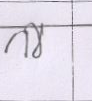i_matra: (28, 22, 42, 57)
